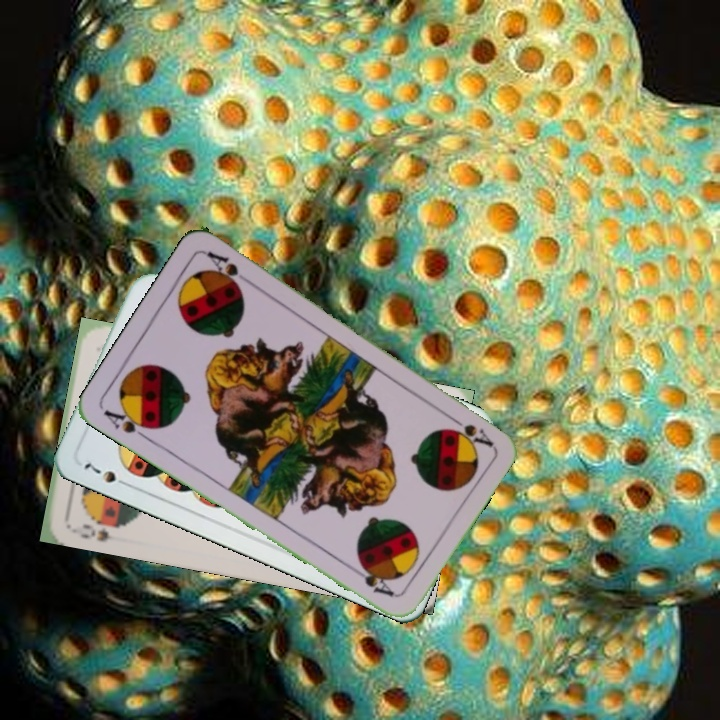S7: (79, 458, 133, 490)
SA: (99, 403, 157, 444), (442, 410, 495, 450)
SO: (75, 515, 127, 545)
